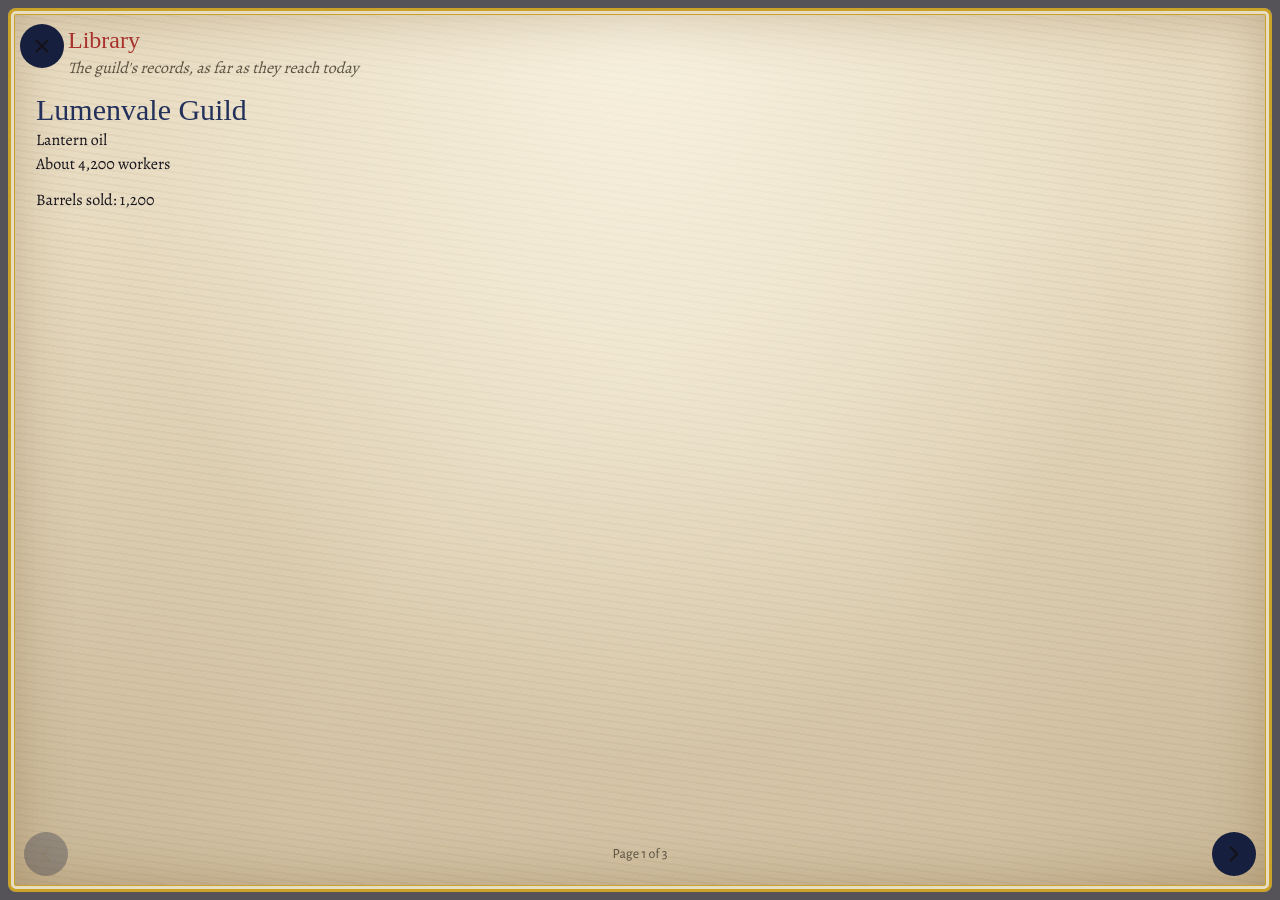
Test: LibraryScroll › pages with swipes and arrow keys
This screenshot has width=1280, height=900.
Press the mouse on the dialog "Library" at (640, 450), box [8,8,1272,892]
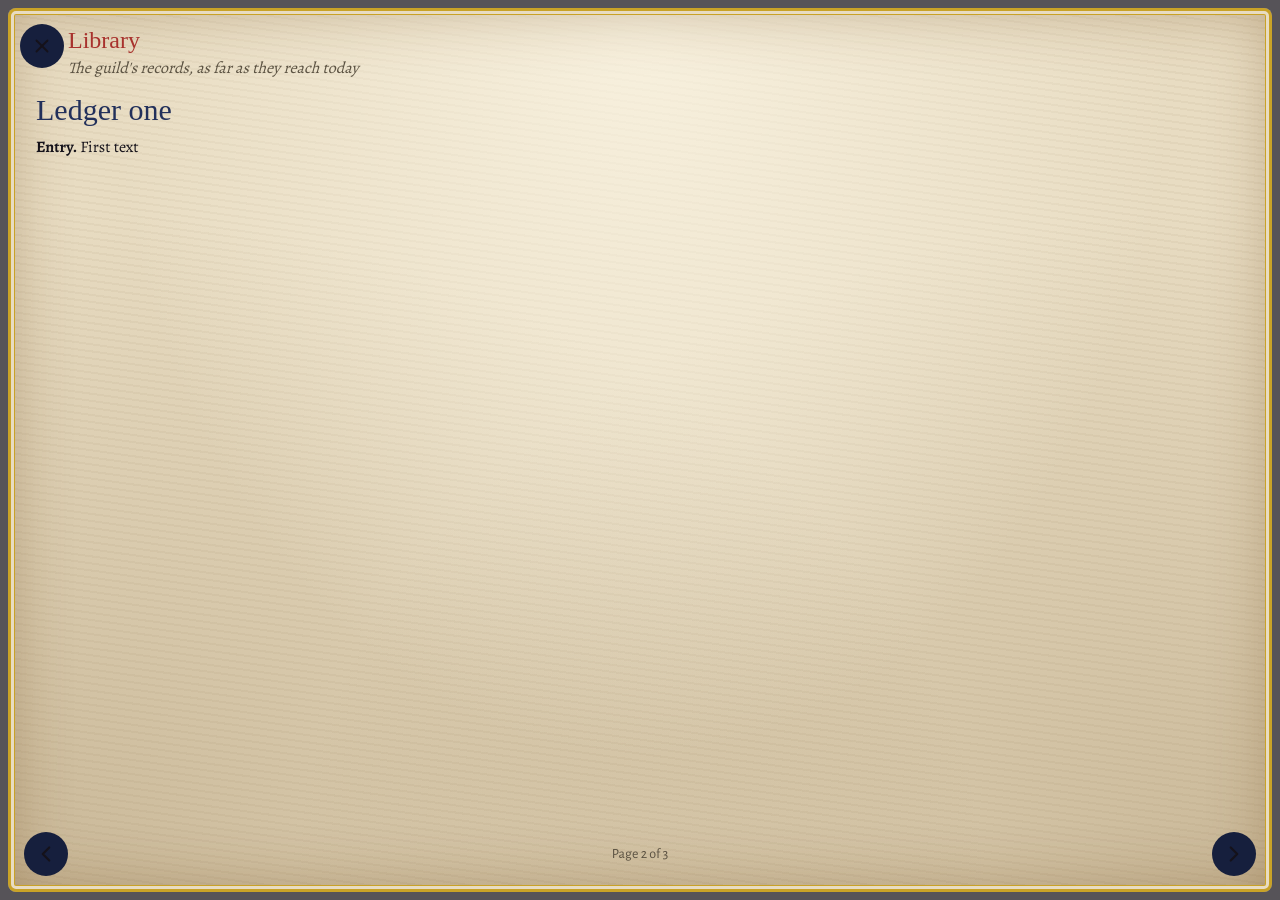
Check: the text "Page 2 of 3" is shown, box [612,844,668,864]
Press ArrowRight in the dialog "Library"
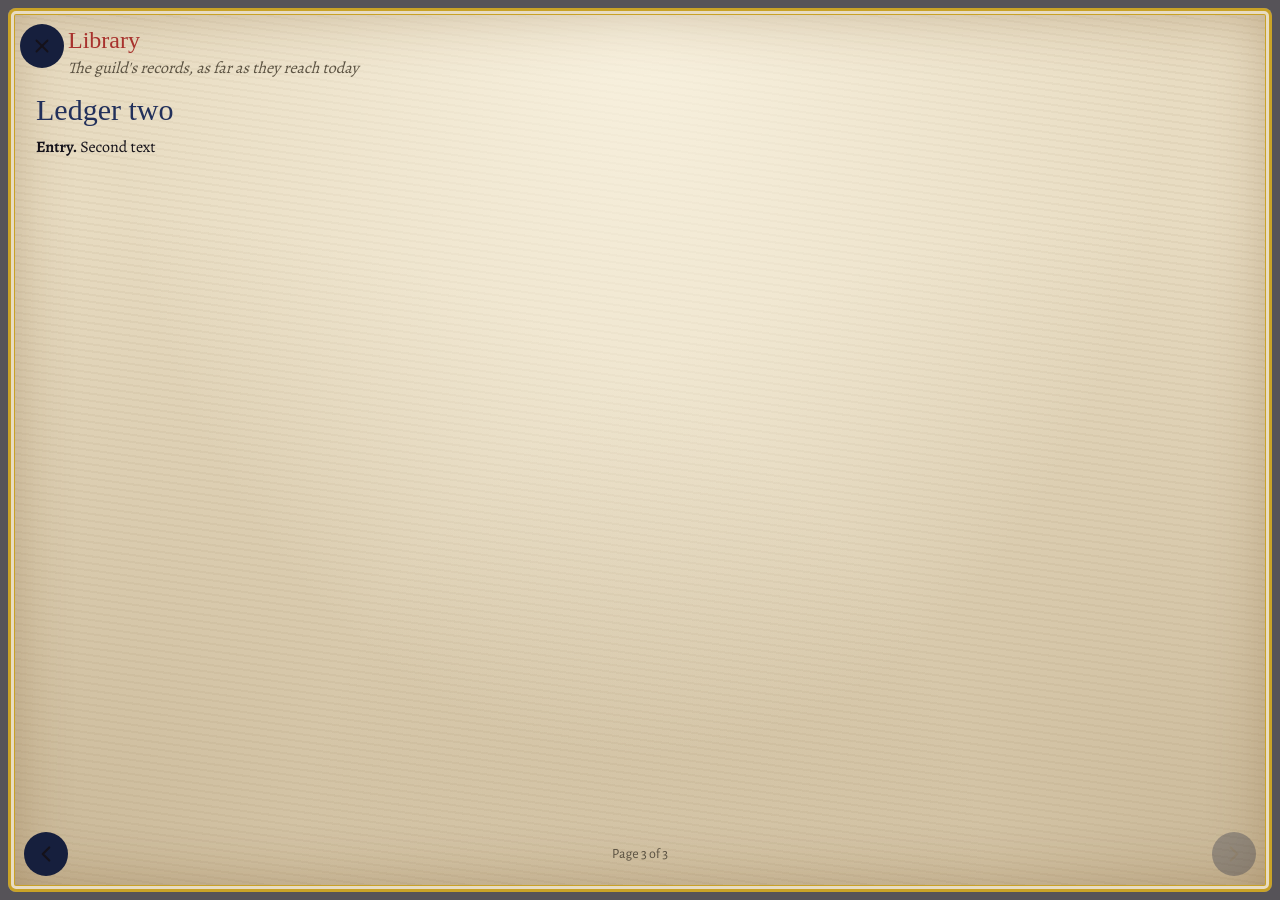
Check: the text "Page 3 of 3" is shown, box [612,844,668,864]
Press the mouse on the dialog "Library" at (640, 450), box [8,8,1272,892]
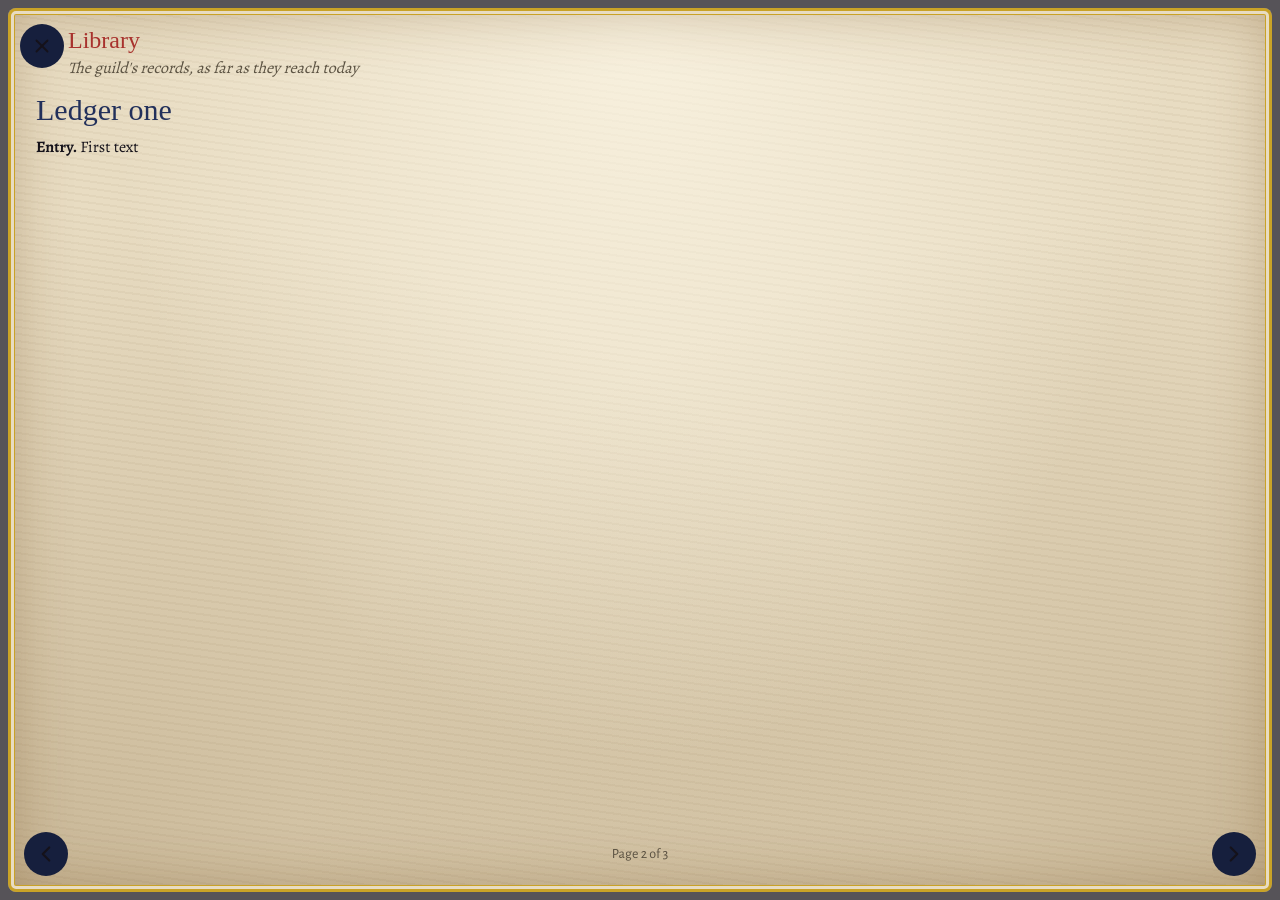
Check: the text "Page 2 of 3" is shown, box [612,844,668,864]
Press ArrowLeft in the dialog "Library"
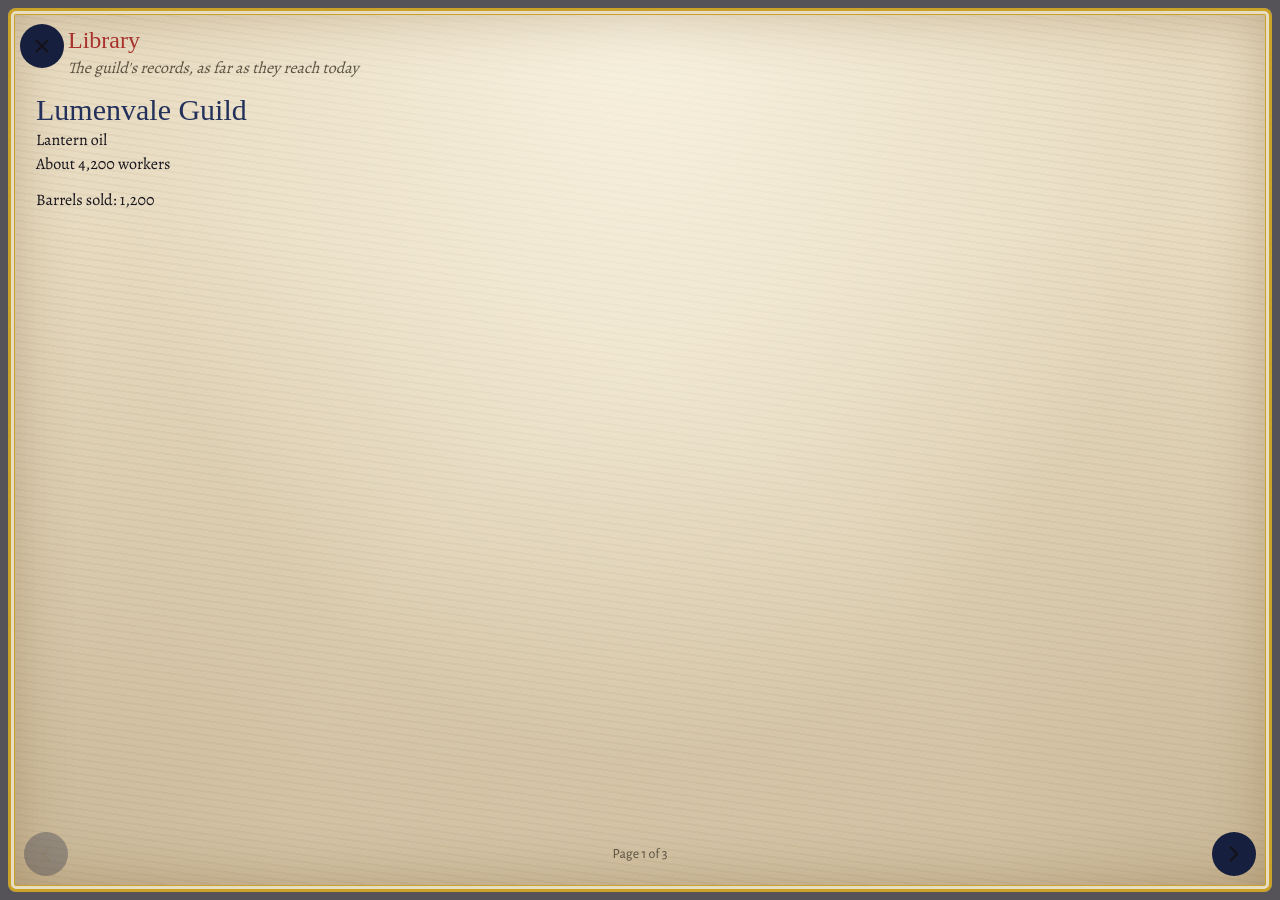
Check: the text "Page 1 of 3" is shown, box [612,844,668,864]
